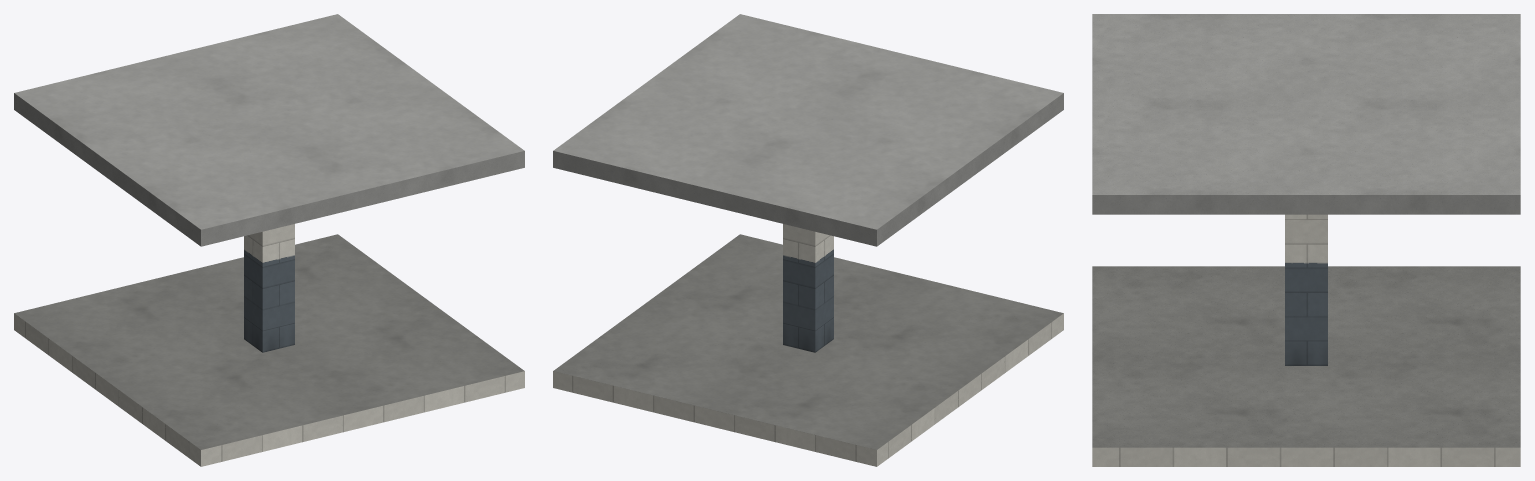
The model's file is Room_Basement_Column_NoLight.glb.
The picture shows the model from 3 angles, left to right: view 1: azimuth 30°, elevation 25°; view 2: azimuth 150°, elevation 25°; view 3: azimuth 270°, elevation 25°; orthographic projection. The views are drawn at different scales.
Visible parts, largest first — view 1: Room_Basement_Column_NoLight, Room_Basement_Column_NoLight_Ceiling; view 2: Room_Basement_Column_NoLight, Room_Basement_Column_NoLight_Ceiling; view 3: Room_Basement_Column_NoLight, Room_Basement_Column_NoLight_Ceiling.
Part boxes in pixels (x1,y1,x2,y2): Room_Basement_Column_NoLight: [14, 224, 524, 466]; Room_Basement_Column_NoLight_Ceiling: [14, 14, 524, 246]; Room_Basement_Column_NoLight: [553, 224, 1063, 466]; Room_Basement_Column_NoLight_Ceiling: [553, 14, 1063, 246]; Room_Basement_Column_NoLight: [1092, 214, 1520, 466]; Room_Basement_Column_NoLight_Ceiling: [1092, 14, 1520, 214].
Bounding box in the file's own units: 4 × 2.8 × 4.
Materials: 3 (3 with a texture image).
